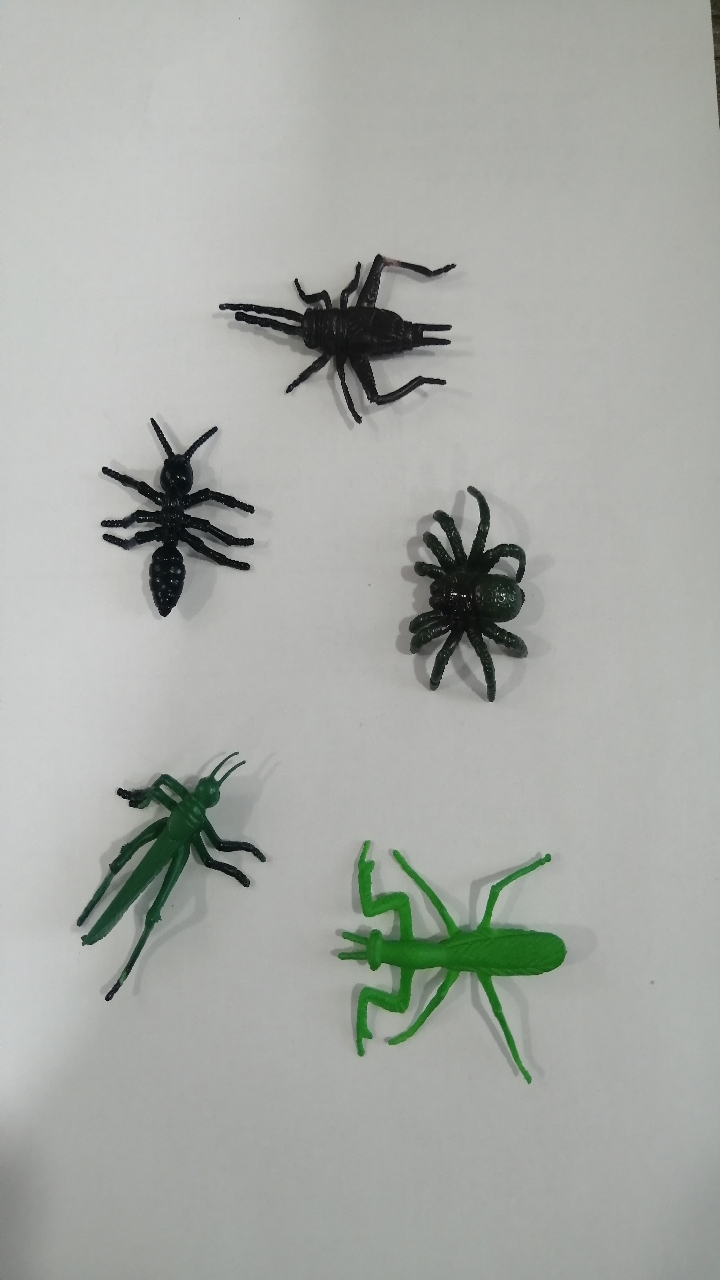intruso: (312, 805, 598, 1122), (200, 217, 497, 460), (46, 731, 303, 994), (61, 394, 283, 645), (372, 462, 552, 737)
